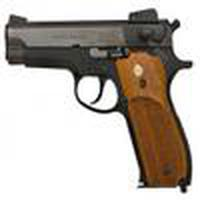gun: (3, 14, 195, 197)
